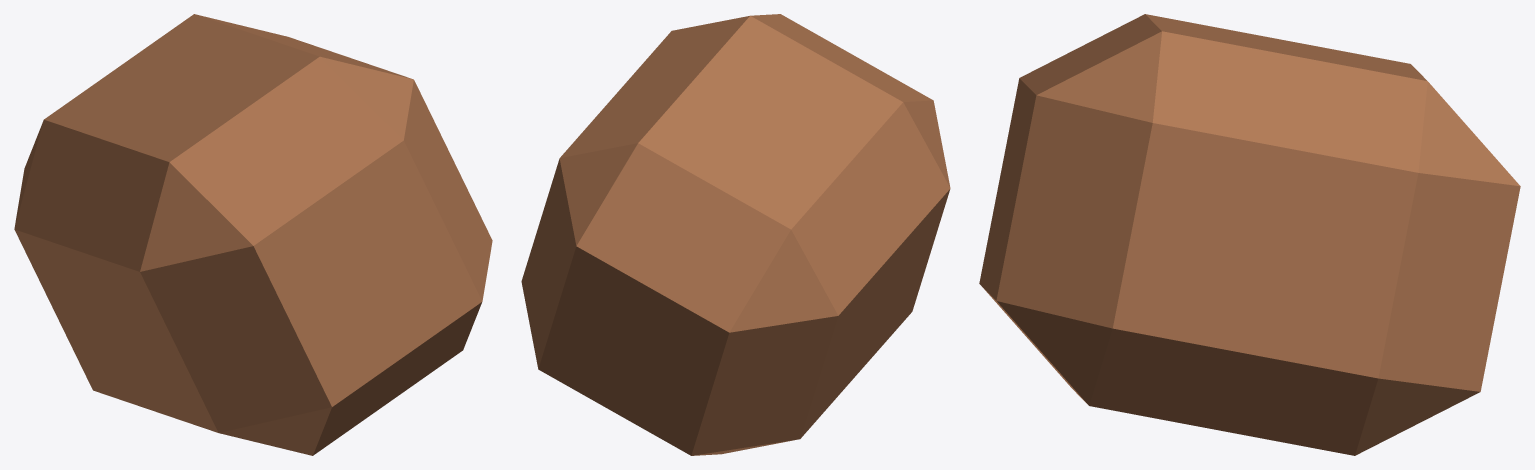
The model's file is potato.fbx.
3 views of the same model, side by side, from view 1: azimuth 30°, elevation 25°; view 2: azimuth 150°, elevation 25°; view 3: azimuth 270°, elevation 25° (orthographic). The views are drawn at different scales.
Visible parts, largest first — view 1: potato; view 2: potato; view 3: potato.
Part boxes in pixels (x1,y1,x2,y2): potato: (14, 14, 492, 455); potato: (521, 14, 950, 455); potato: (979, 14, 1520, 455).
Size of the model in its own units: 38.74 by 42.7 by 48.26.
